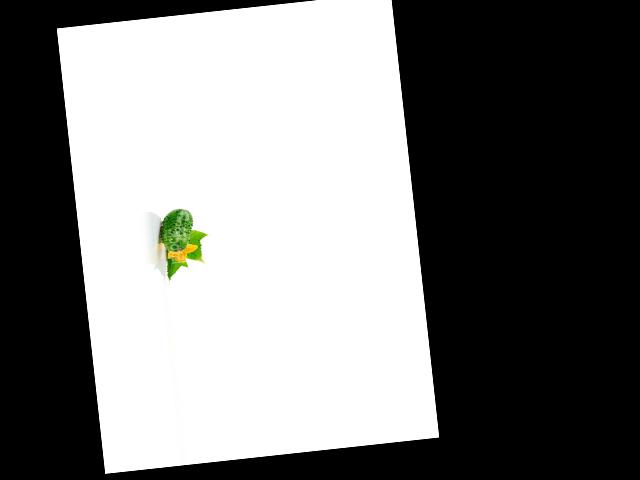cucumber: (158, 207, 195, 252)
